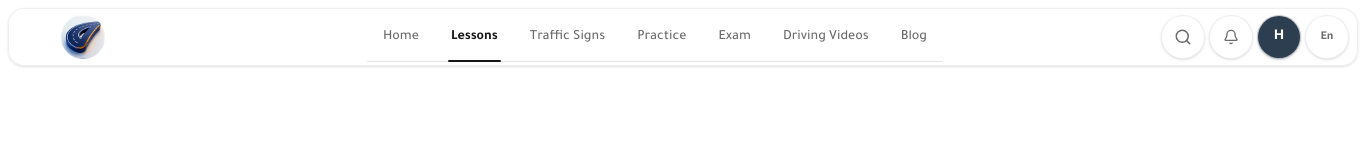
Scenario: Navbar responsive account navigation › keeps the full desktop navigation and opens search from an icon
The width and height of the screenshot is (1366, 160).
Expected: the field labelled "nav.search" is not shown
Click the button named "nav.search": x=1183, y=37 [1161, 15, 1205, 59]
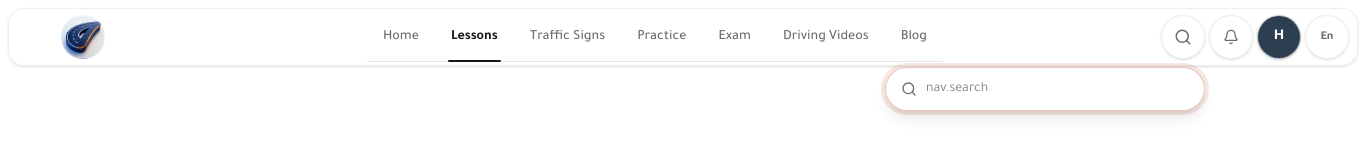
Press Escape in the field labelled "nav.search", box [885, 67, 1205, 111]
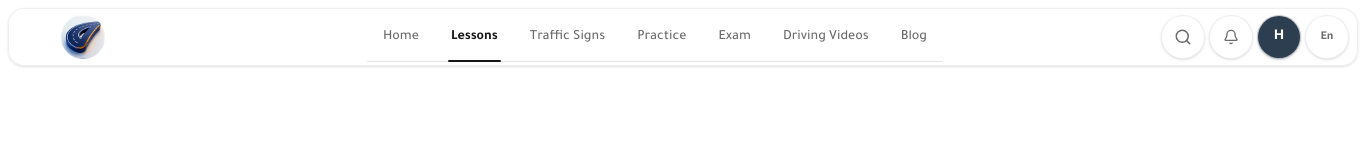
Result: the field labelled "nav.search" is gone
